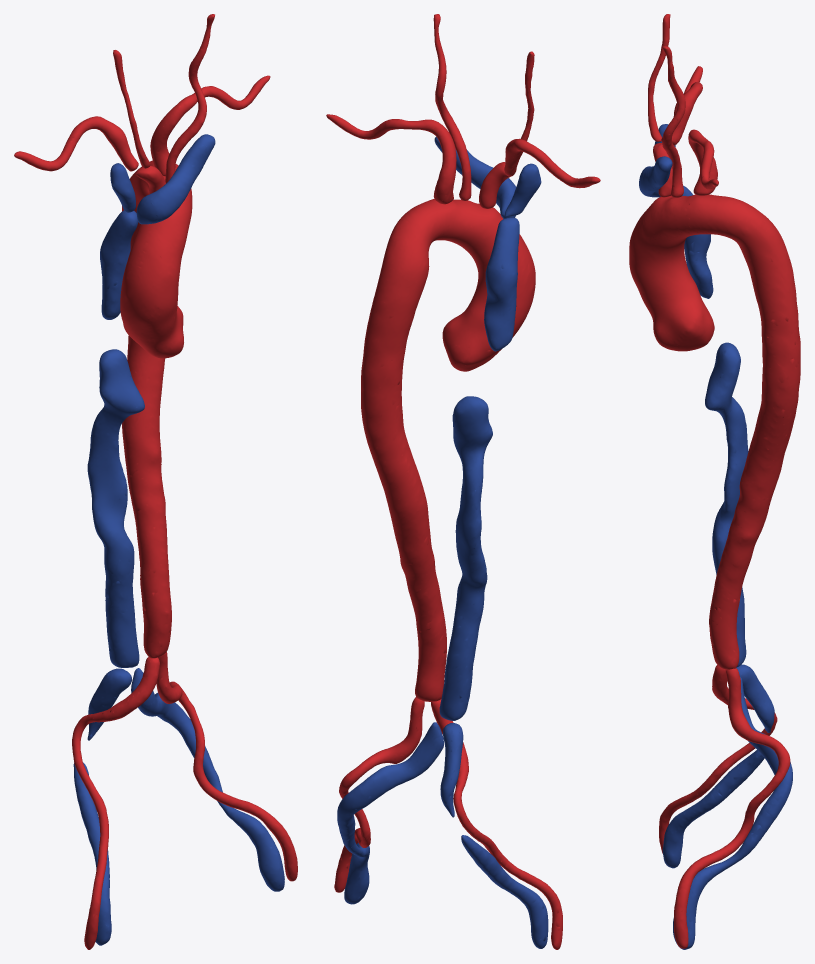
Rendered from s1045_aorta_and_veins.glb.
The picture shows the model from 3 angles, left to right: view 1: azimuth 30°, elevation 25°; view 2: azimuth 150°, elevation 25°; view 3: azimuth 270°, elevation 25°; orthographic projection. The views are drawn at different scales.
Visible parts, largest first — view 1: aorta, inferior_vena_cava, iliac_vena_left, iliac_artery_right, iliac_vena_right, iliac_artery_left, brachiocephalic_vein_left, superior_vena_cava, subclavian_artery_left, subclavian_artery_right, common_carotid_artery_left, common_carotid_artery_right (+1 smaller); view 2: aorta, inferior_vena_cava, iliac_vena_left, iliac_vena_right, superior_vena_cava, iliac_artery_left, iliac_artery_right, subclavian_artery_left, common_carotid_artery_left, subclavian_artery_right, brachiocephalic_vein_left, brachiocephalic_vein_right (+2 smaller); view 3: aorta, inferior_vena_cava, iliac_artery_left, iliac_vena_right, iliac_vena_left, iliac_artery_right, common_carotid_artery_left, superior_vena_cava, subclavian_artery_left, common_carotid_artery_right, brachiocephalic_vein_left, subclavian_artery_right (+1 smaller).
Part boxes in pixels (x1,y1,x2,y2): aorta: (120, 160, 192, 658); inferior_vena_cava: (87, 349, 144, 667); iliac_vena_left: (131, 668, 284, 891); iliac_artery_right: (72, 657, 159, 949); iliac_vena_right: (73, 668, 131, 945); iliac_artery_left: (156, 652, 297, 881); brachiocephalic_vein_left: (136, 134, 215, 224); superior_vena_cava: (100, 210, 138, 319); subclavian_artery_left: (150, 75, 270, 176); subclavian_artery_right: (14, 116, 138, 171); common_carotid_artery_left: (165, 14, 214, 183); common_carotid_artery_right: (113, 50, 150, 168); aorta: (361, 199, 535, 701); inferior_vena_cava: (439, 396, 492, 720); iliac_vena_left: (337, 722, 443, 904); iliac_vena_right: (440, 723, 548, 948); superior_vena_cava: (484, 217, 519, 351); iliac_artery_left: (334, 697, 424, 892); iliac_artery_right: (431, 699, 562, 949); subclavian_artery_left: (326, 114, 456, 204); common_carotid_artery_left: (433, 14, 471, 200); subclavian_artery_right: (504, 138, 600, 188); brachiocephalic_vein_left: (434, 136, 516, 218); brachiocephalic_vein_right: (505, 163, 541, 216); aorta: (629, 194, 800, 669); inferior_vena_cava: (705, 342, 748, 667); iliac_artery_left: (674, 668, 790, 948); iliac_vena_right: (662, 664, 774, 868); iliac_vena_left: (673, 677, 792, 949); iliac_artery_right: (659, 665, 777, 853); common_carotid_artery_left: (661, 46, 685, 197); superior_vena_cava: (682, 185, 713, 298); subclavian_artery_left: (688, 129, 718, 195); common_carotid_artery_right: (648, 14, 670, 141); brachiocephalic_vein_left: (639, 156, 672, 197); subclavian_artery_right: (672, 66, 702, 145).
Bounding box in the file's own units: 0.2051 × 0.648 × 0.1156.
